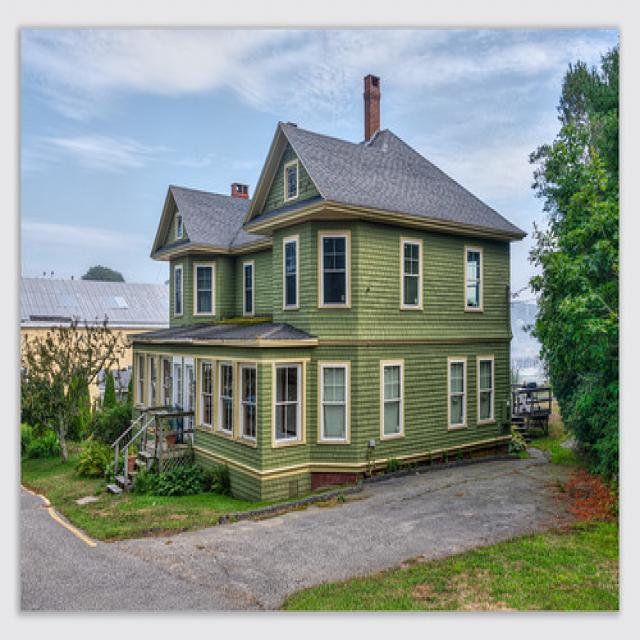Normal_building: (127, 81, 527, 509)
